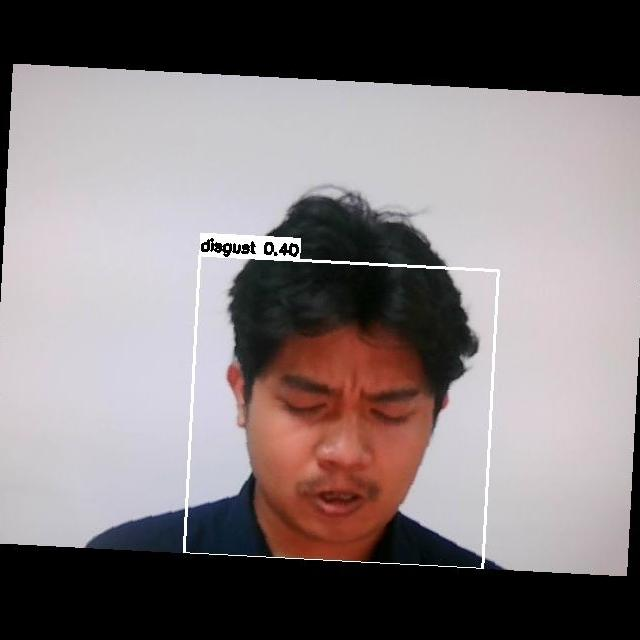Angry: (242, 330, 456, 551)
